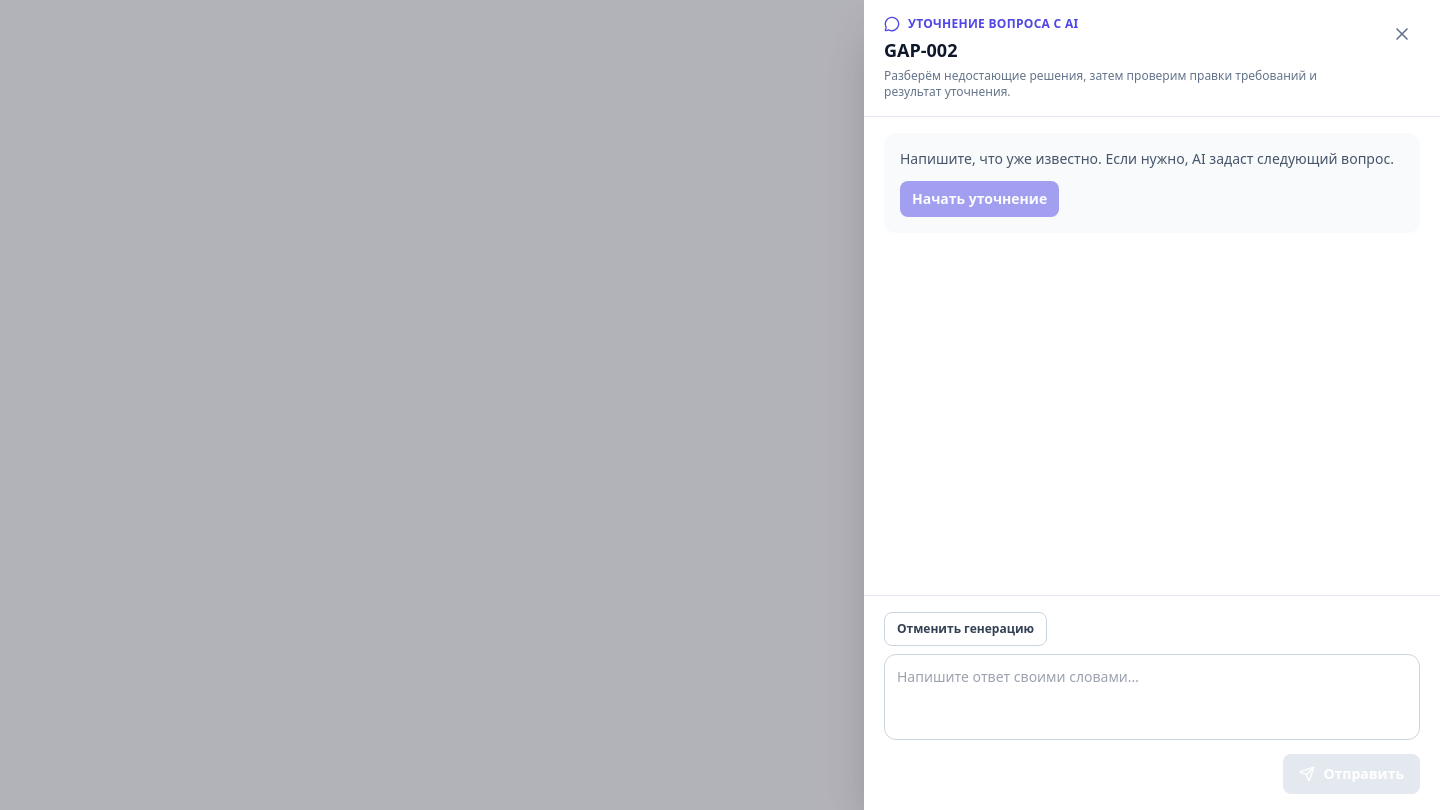
Test: old starts cannot replace the latest attempt and cancel targets the server current attempt
Click the button "Отменить генерацию": (966, 629) [884,612,1047,646]
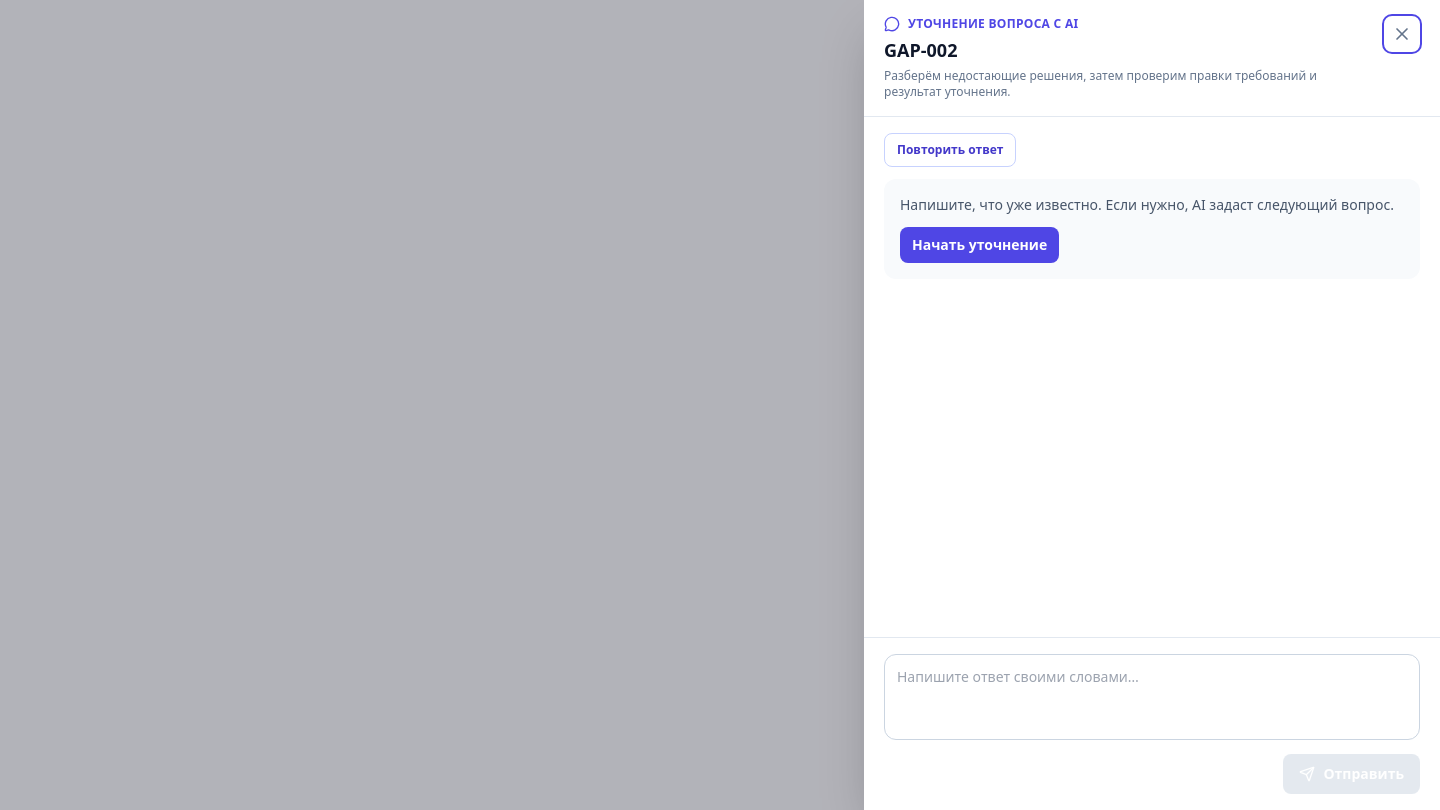
Now the button "Повторить ответ" is shown, box [884,133,1016,167]
